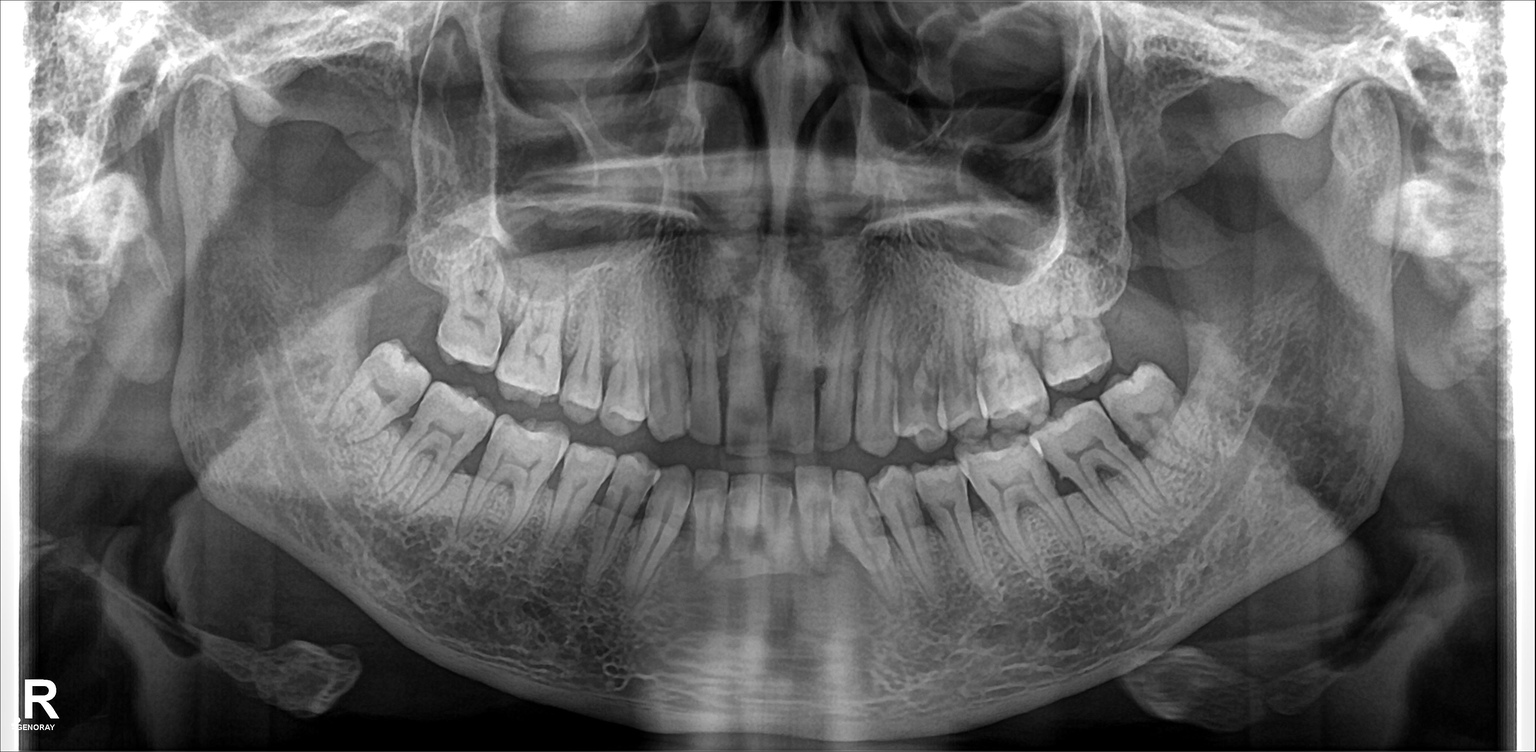Impacted Third Molar: (326, 350, 426, 463), (1102, 382, 1214, 459)
Missing Tooth: (1102, 253, 1170, 353), (387, 242, 445, 340)
